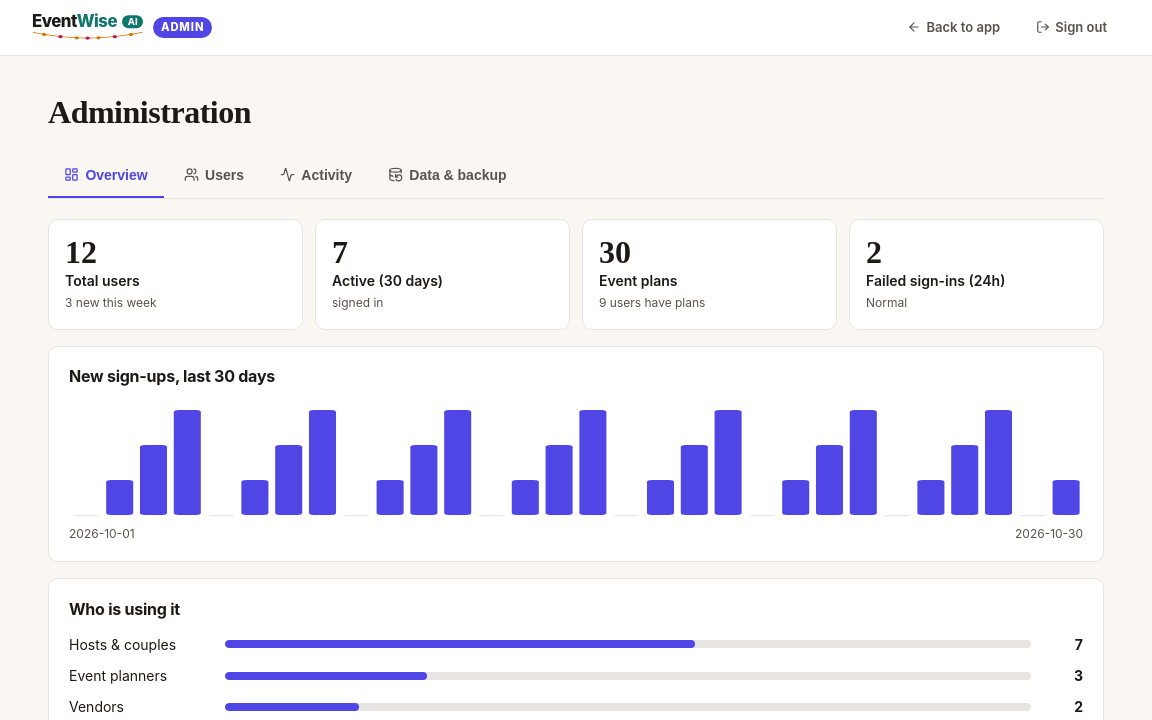
Scenario: Admin dashboard UI › shows overview numbers, users and management actions to an admin, and has no a11y violations
This screenshot has width=1152, height=720.
Check: the heading "Administration" is shown, box [48,94,251,130]
Check: the text "Total users" is shown, box [65,272,140,289]
Click the tab "Users".
click(214, 176)  # box [168,154,260,198]
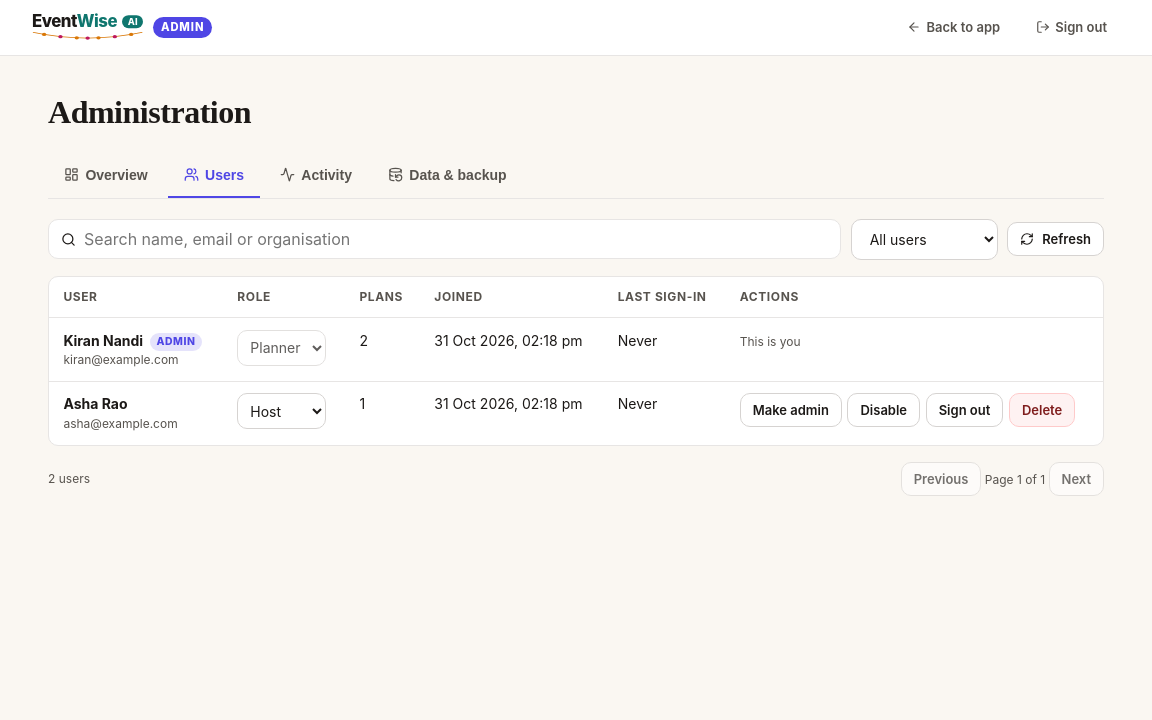
Check: the text "Asha Rao" is shown, box [63,395,128,412]
Check: the text "This is you" is shown, box [740,334,801,349]
Check: the button "Make admin" is shown, box [740,393,842,427]
